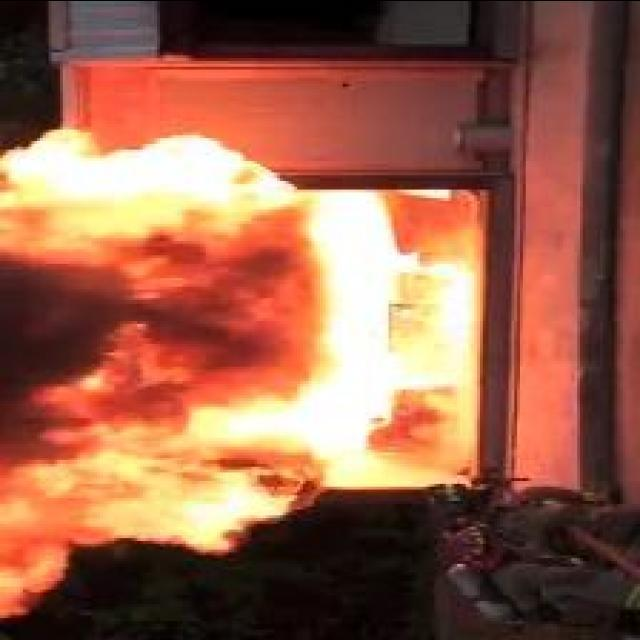Fire: (2, 129, 476, 622)
